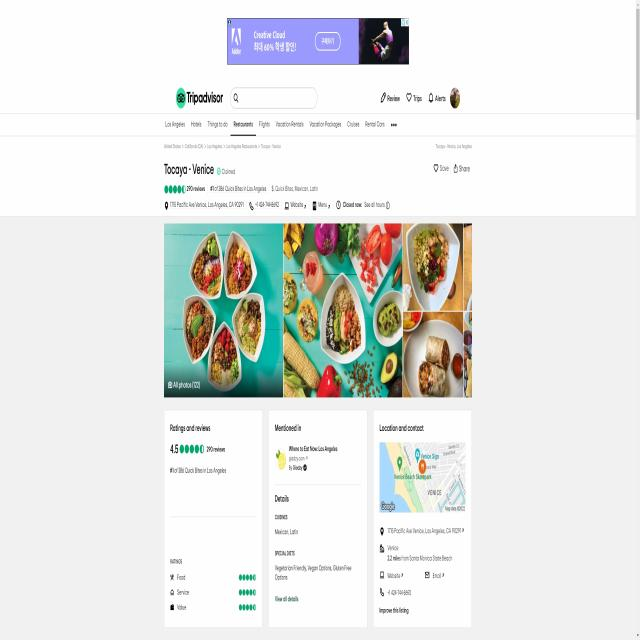menu-bar: (377, 85, 463, 112)
search: (228, 84, 320, 110)
tab-bar: (163, 118, 398, 134)
